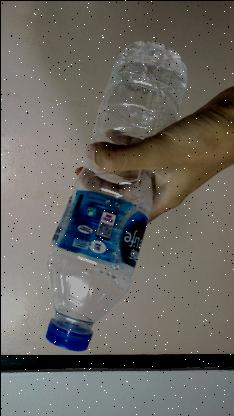Plastic Bottle: (36, 36, 198, 354)
